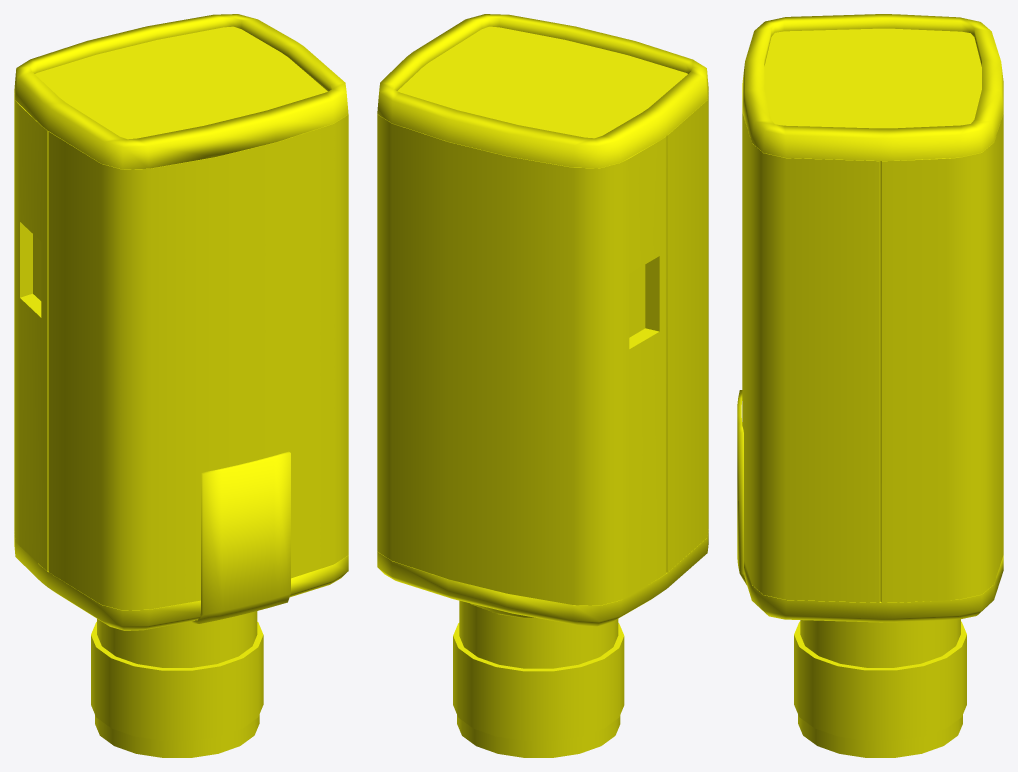
File: sm_hana_cctv_bullet_camera_1590_lod01.glb
3 views of the same model, side by side, from view 1: azimuth 30°, elevation 25°; view 2: azimuth 150°, elevation 25°; view 3: azimuth 270°, elevation 25° (orthographic).
Parts seen in each view (by area): view 1: sm_hana_cctv_bullet_camera_1590_lod01; view 2: sm_hana_cctv_bullet_camera_1590_lod01; view 3: sm_hana_cctv_bullet_camera_1590_lod01.
Boxes of the visible parts, <box> form: sm_hana_cctv_bullet_camera_1590_lod01: <box>14,14,348,757</box>; sm_hana_cctv_bullet_camera_1590_lod01: <box>377,14,708,757</box>; sm_hana_cctv_bullet_camera_1590_lod01: <box>737,14,1003,757</box>.
Bounding box in the file's own units: 0.4854 × 1.19 × 0.4324.
2 materials, 1 textured.
